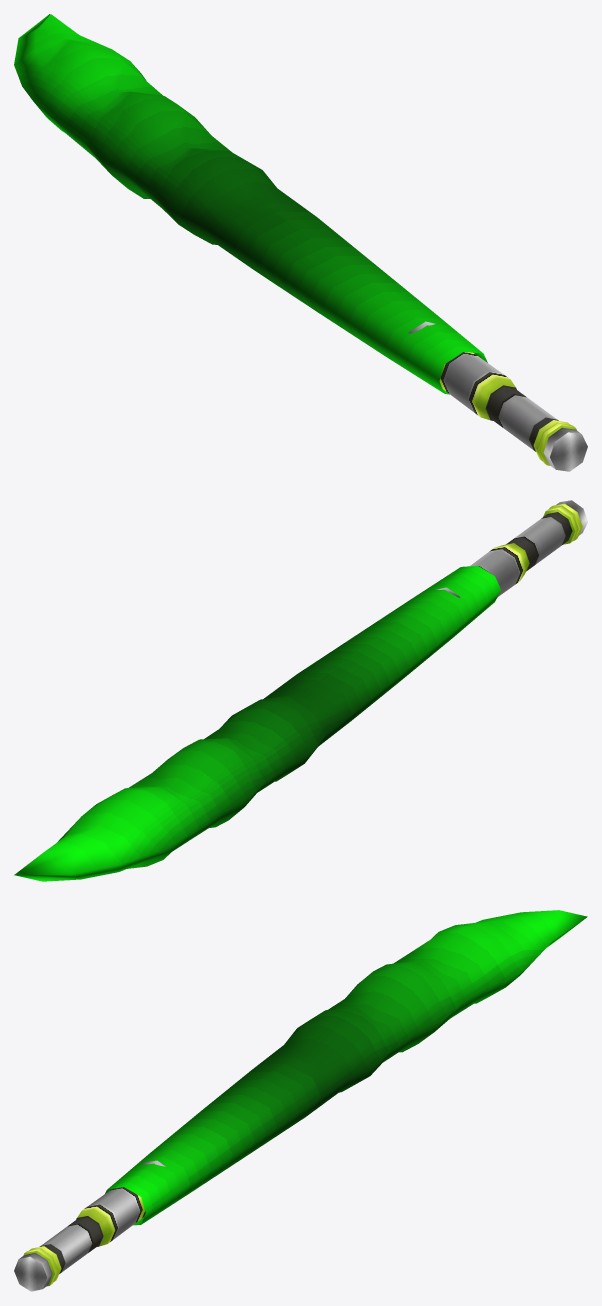
The model's file is efx_scm_zunda_sword_loop_s_2.glb.
3 views of the same model, one above another, from view 1: azimuth 30°, elevation 25°; view 2: azimuth 150°, elevation 25°; view 3: azimuth 330°, elevation 25° (orthographic). The views are drawn at different scales.
Size of the model in its own units: 0.1591 by 0.1151 by 1.34.
3 materials, 3 textured.
